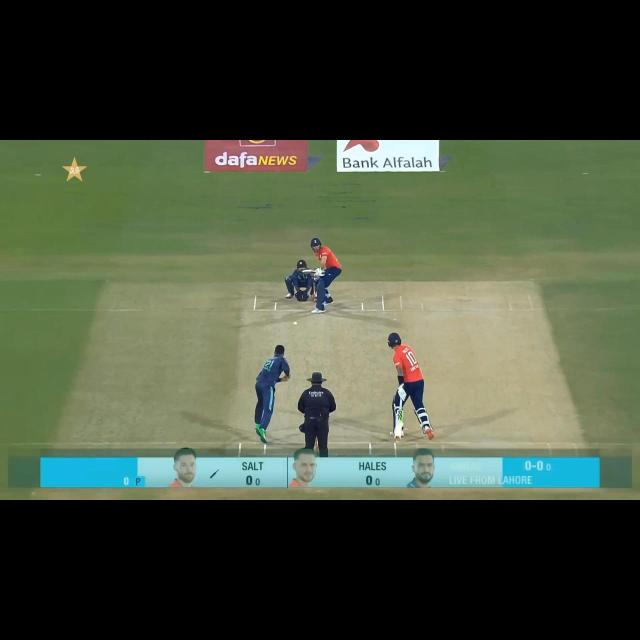bat: (395, 407, 404, 442), (301, 268, 317, 275)
toe: (394, 435, 402, 442), (301, 268, 307, 276)
